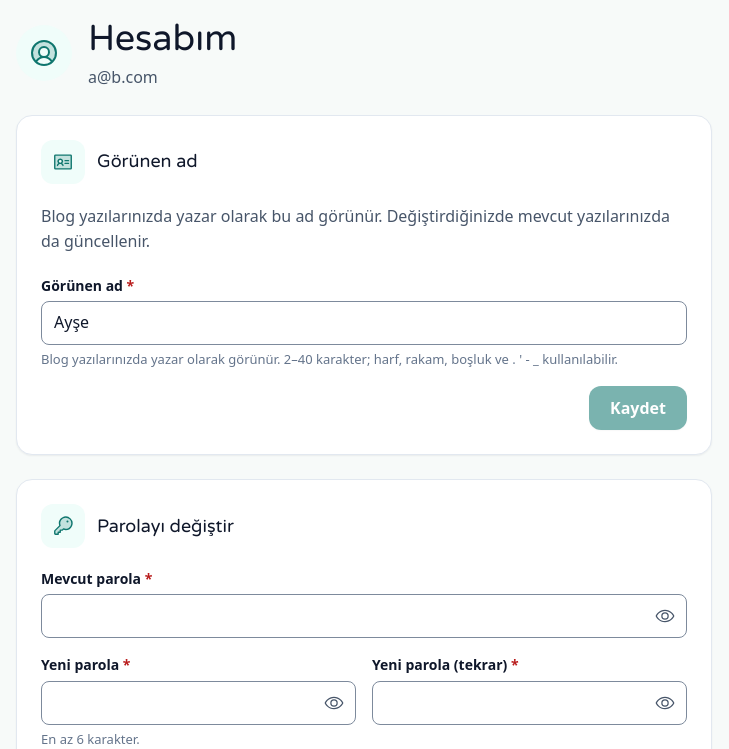
Test: Account › a display name someone else uses is explained
Expected: the heading "Hesabım" is shown, [88,16,237,61]
Replace the text in the field labelled "Görünen ad *" with "Tolga" at (364, 323), box [41,301,687,345]
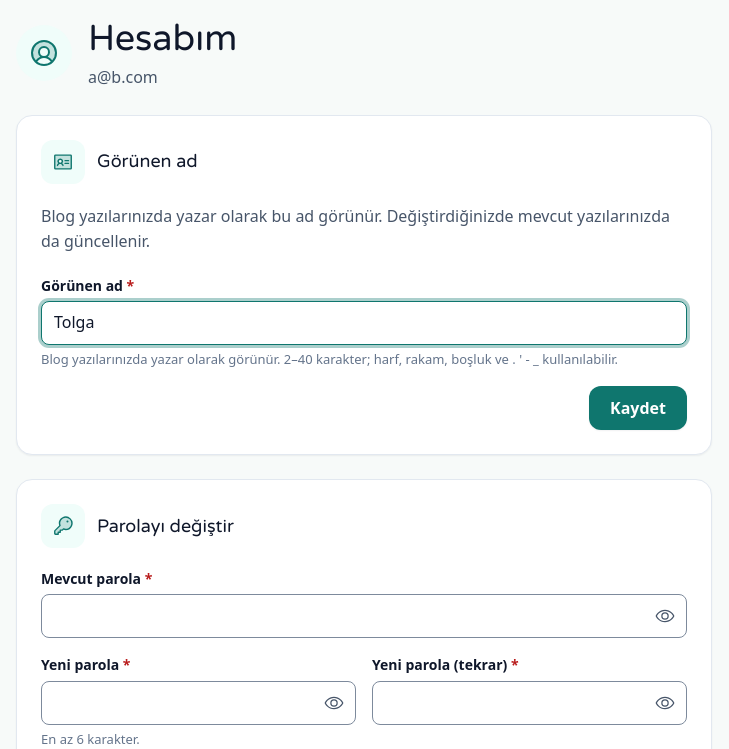
Click the button "Kaydet" at (638, 408), box [589,386,687,430]
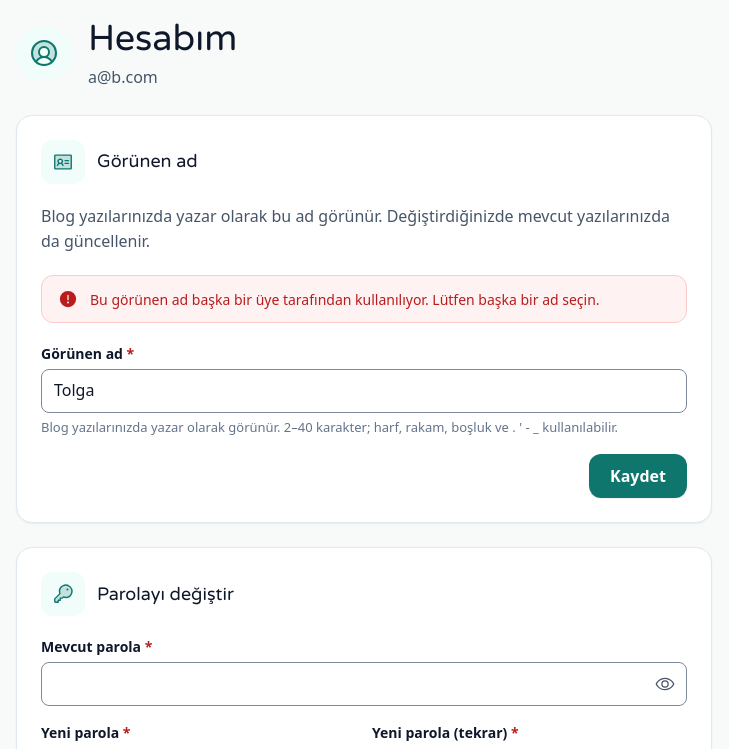
Now the text "başka bir üye tarafından kullanılıyor" is shown, box [90,290,600,309]
